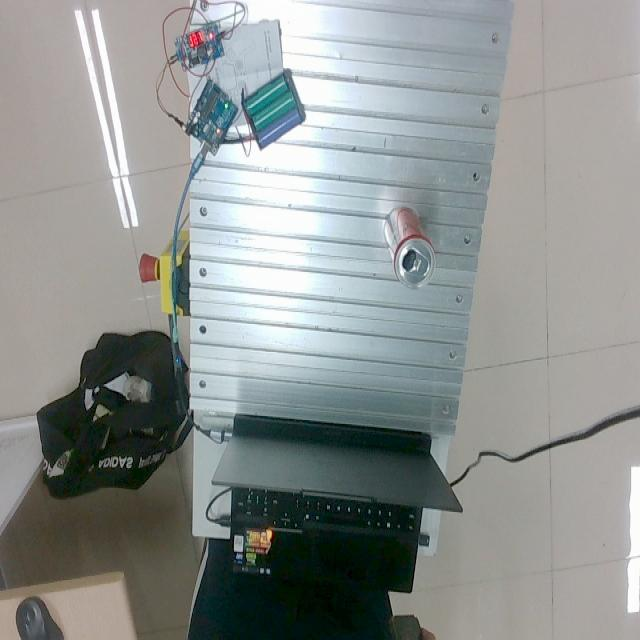coca: (383, 208, 436, 291)
